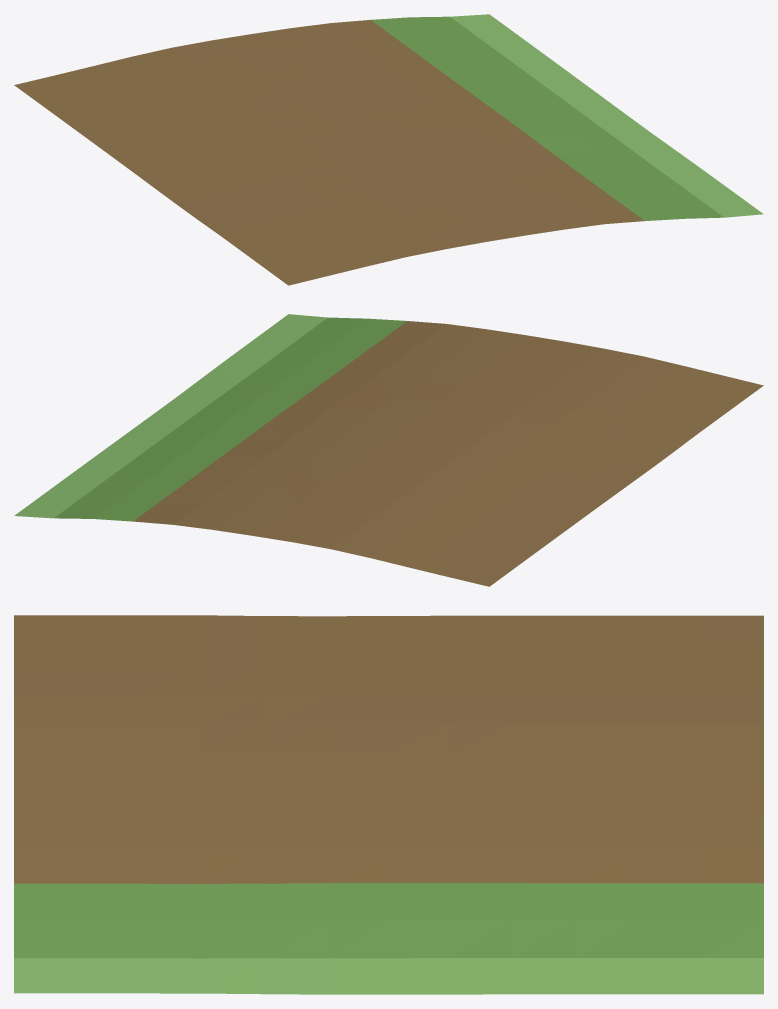
Rendered from chunk_-1_2.obj.
The picture shows the model from 3 angles, top to bottom: view 1: azimuth 30°, elevation 25°; view 2: azimuth 150°, elevation 25°; view 3: azimuth 270°, elevation 25°; orthographic projection. The views are drawn at different scales.
Visible parts, largest first — view 1: dirt, grass_a, grass_b; view 2: dirt, grass_a, grass_b; view 3: dirt, grass_a, grass_b.
Boxes of the visible parts, left/top/right/bottom form: dirt: left=14, top=20, right=644, bottom=285; grass_a: left=371, top=16, right=723, bottom=220; grass_b: left=450, top=14, right=763, bottom=217; dirt: left=133, top=321, right=763, bottom=586; grass_a: left=54, top=317, right=406, bottom=521; grass_b: left=14, top=314, right=327, bottom=518; dirt: left=14, top=615, right=763, bottom=883; grass_a: left=14, top=883, right=763, bottom=958; grass_b: left=14, top=958, right=763, bottom=994.
Size of the model in its own units: 16 by 1.47 by 16.
